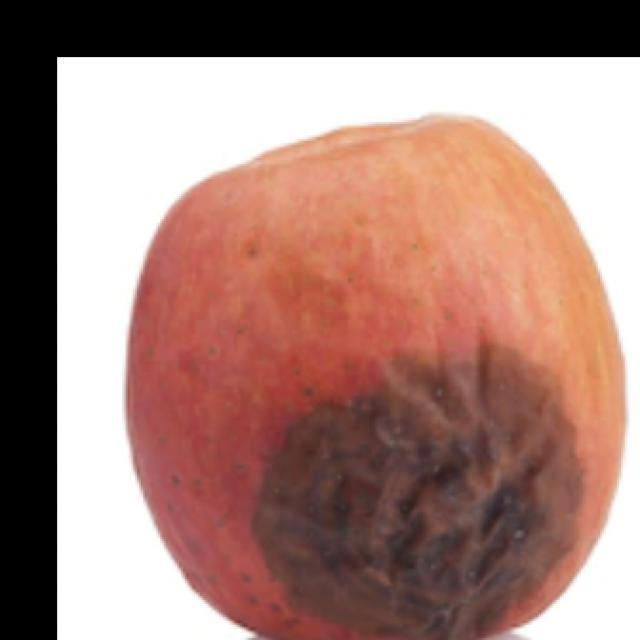Rotten: (161, 93, 624, 640)
